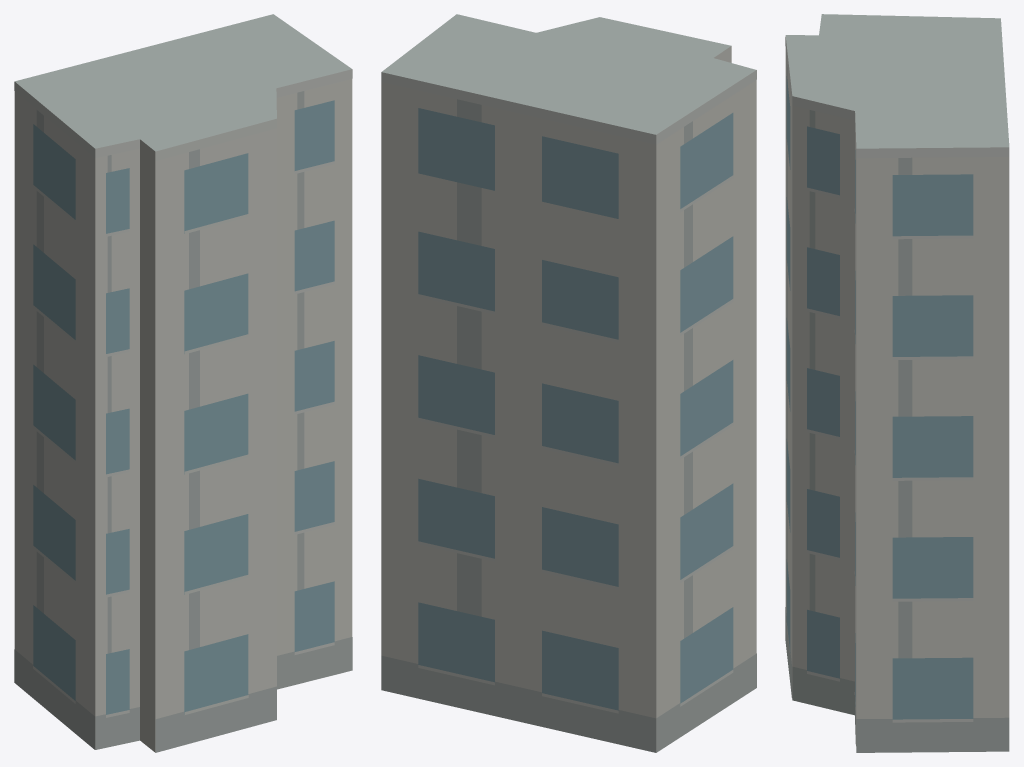
Rendered from survey-upis-32552642.glb.
3 views of the same model, side by side, from view 1: azimuth 30°, elevation 25°; view 2: azimuth 150°, elevation 25°; view 3: azimuth 270°, elevation 25° (orthographic). The views are drawn at different scales.
Visible parts, largest first — view 1: survey-upis-32552642.tmp; view 2: survey-upis-32552642.tmp; view 3: survey-upis-32552642.tmp.
Boxes of the visible parts, x1=… form: survey-upis-32552642.tmp: x1=14, y1=14, x2=352, y2=752; survey-upis-32552642.tmp: x1=381, y1=14, x2=756, y2=752; survey-upis-32552642.tmp: x1=785, y1=14, x2=1009, y2=752.
Size of the model in its own units: 7.3 by 15.25 by 5.13.
